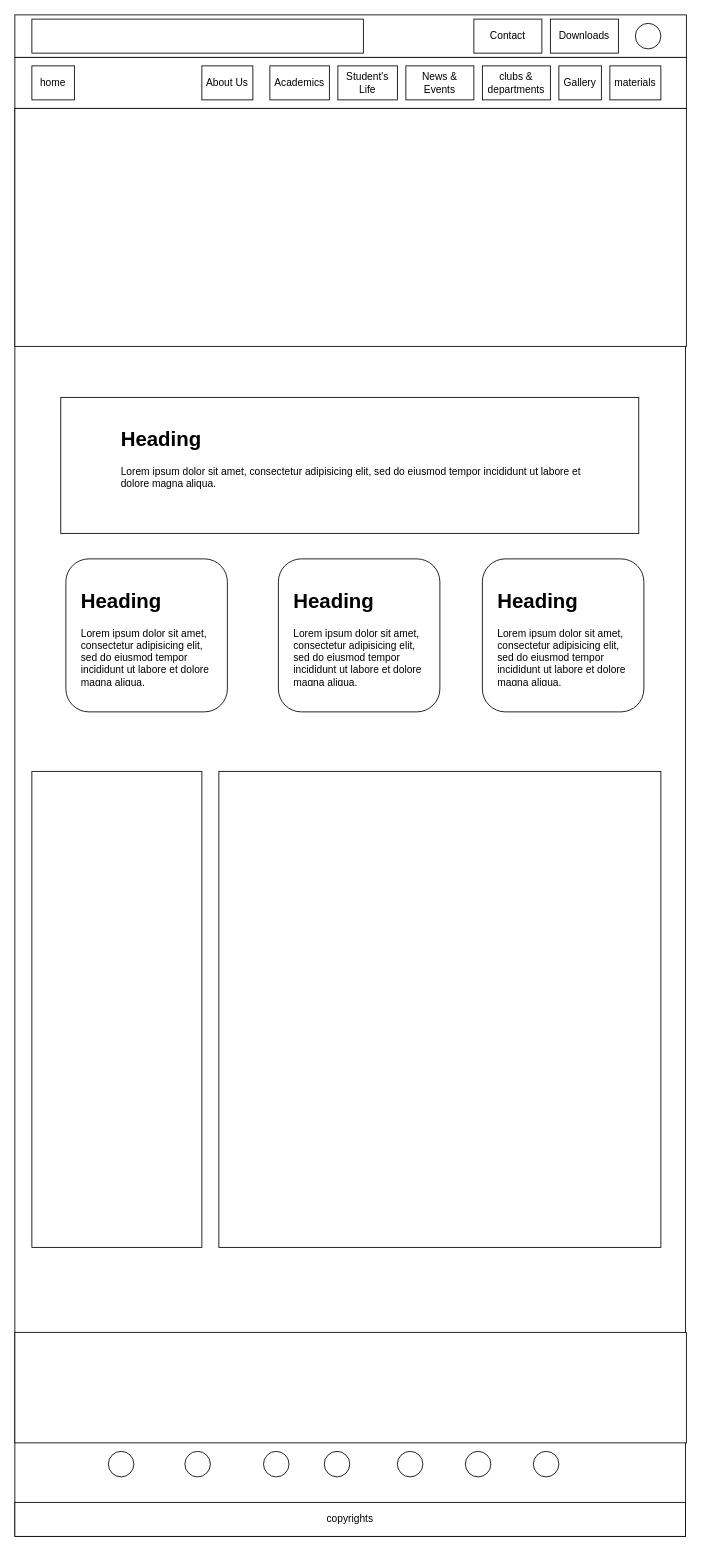
Some shapes in this 701 by 1551 pixel diagram are drawn without their labels. The centre of each missing label's shape, as x and y in pixels:
image slider: (x=350, y=227)
info area: (x=116, y=1009)
poster: (x=439, y=1009)
RAJI GARDEN: (x=197, y=35)
